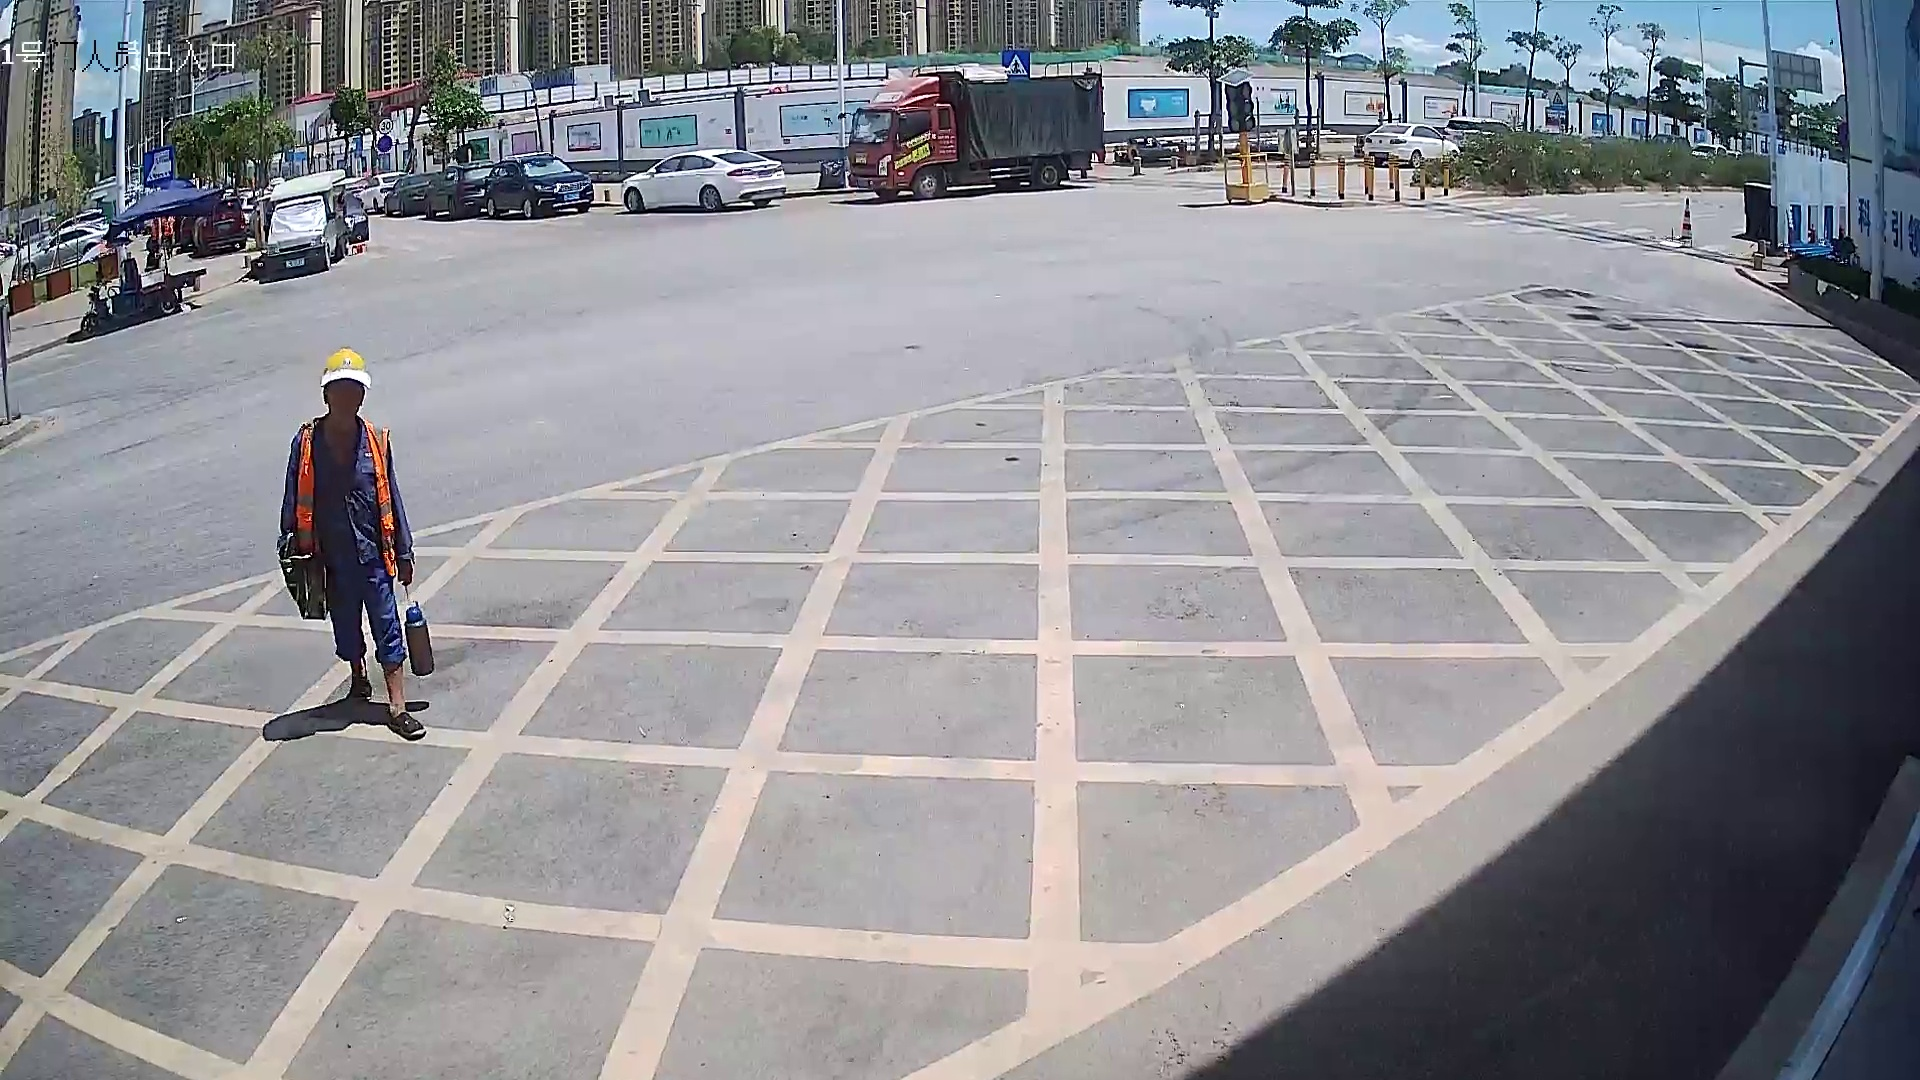ordinary_clothes: (293, 418, 400, 574)
person: (269, 341, 431, 749)
safety_helmet: (319, 343, 374, 430)
